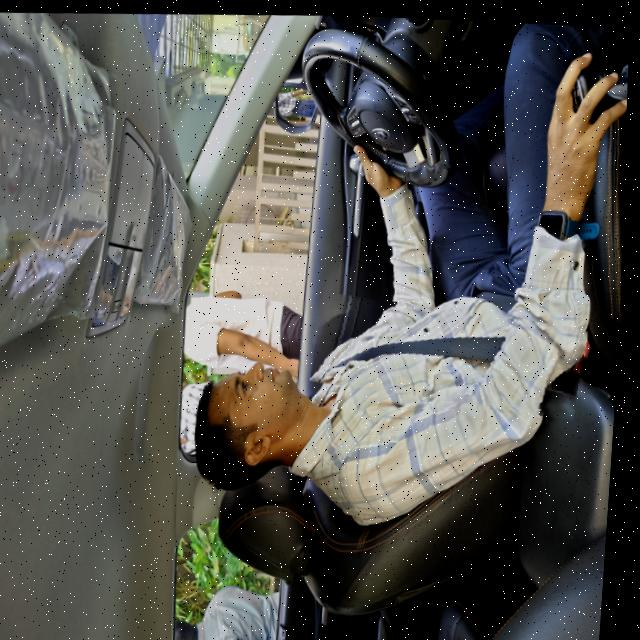seatbelt: (313, 287, 594, 413)
